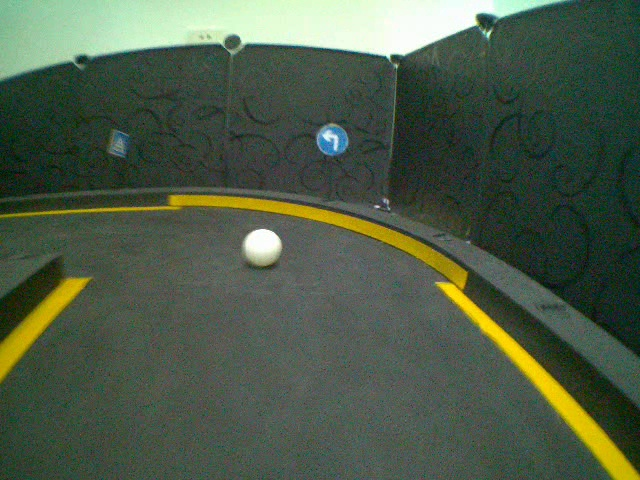ball: (243, 228, 282, 267)
